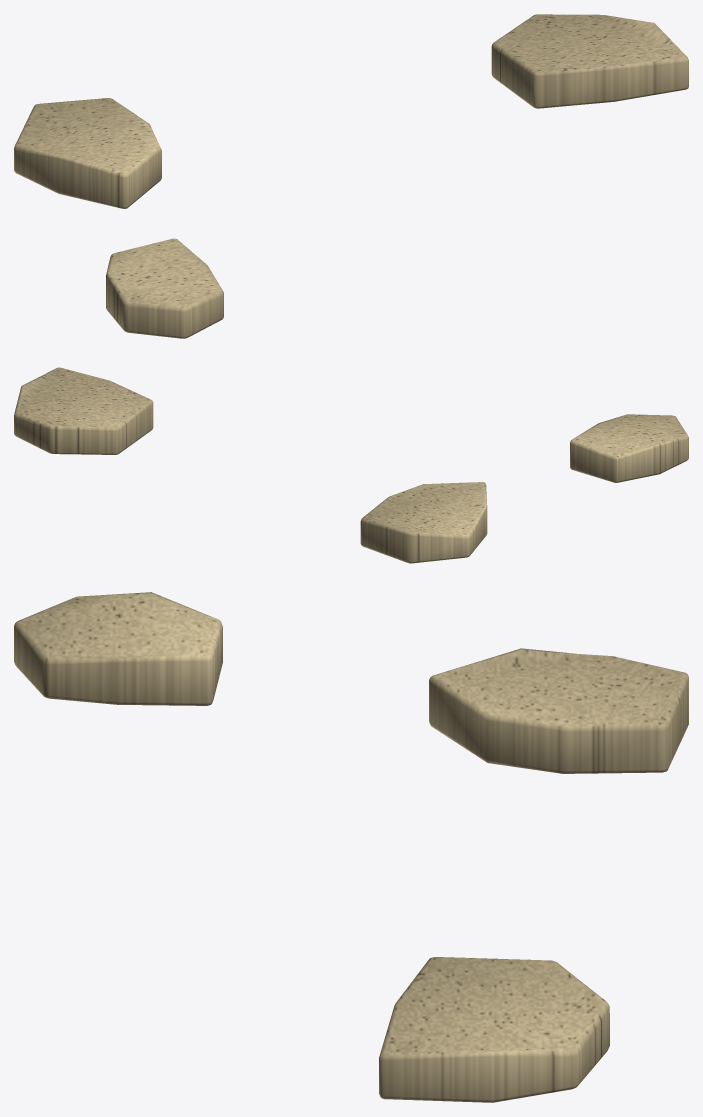
File: food-01-residue.glb
The picture shows the model from 3 angles, top to bottom: view 1: azimuth 30°, elevation 25°; view 2: azimuth 150°, elevation 25°; view 3: azimuth 270°, elevation 25°; orthographic projection. The views are drawn at different scales.
Parts seen in each view (by area): view 1: Food; view 2: Food; view 3: Food.
Part boxes in pixels (x1,y1,x2,y2): Food: [14, 14, 688, 338]; Food: [14, 367, 688, 563]; Food: [14, 592, 688, 1102].
Bounding box in the file's own units: 0.5639 × 0.0309 × 0.3455.
Materials: 1 (1 with a texture image).
